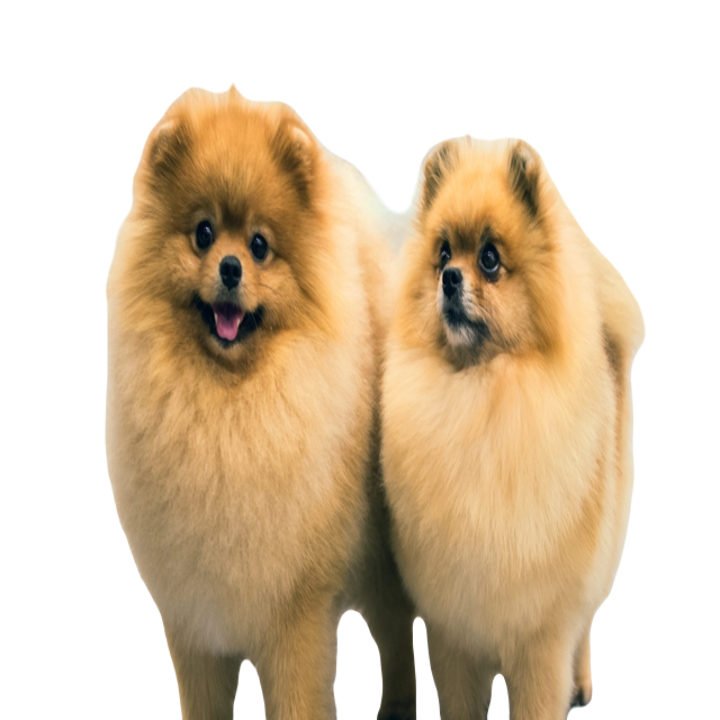Dog: (96, 84, 645, 719)
